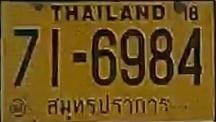1: (51, 28, 58, 86)
4: (177, 27, 202, 85)
6: (91, 28, 116, 85)
7: (12, 28, 38, 86)
8: (149, 28, 173, 84)
9: (120, 28, 144, 84)
SPK: (39, 91, 175, 122)
